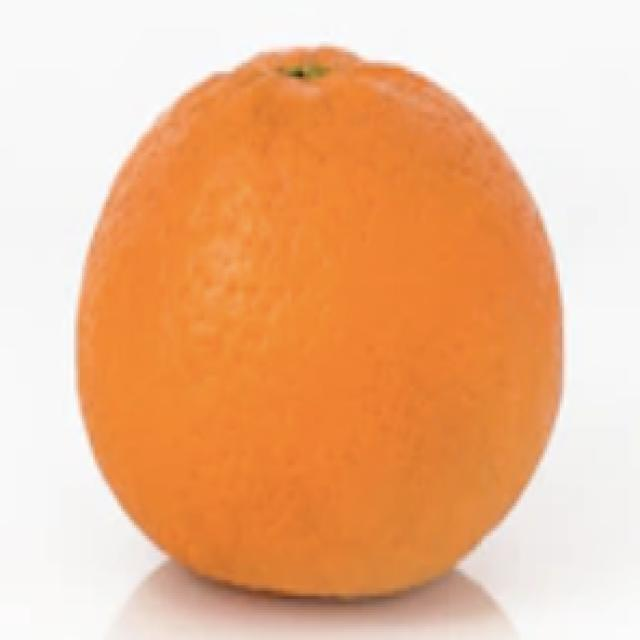Orange: (74, 43, 565, 600)
